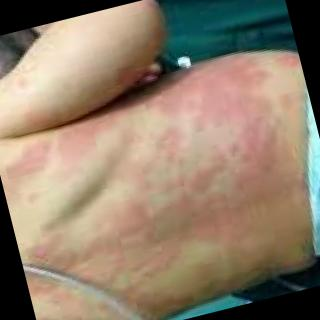urticaria: (36, 142, 288, 268), (167, 78, 281, 125)
